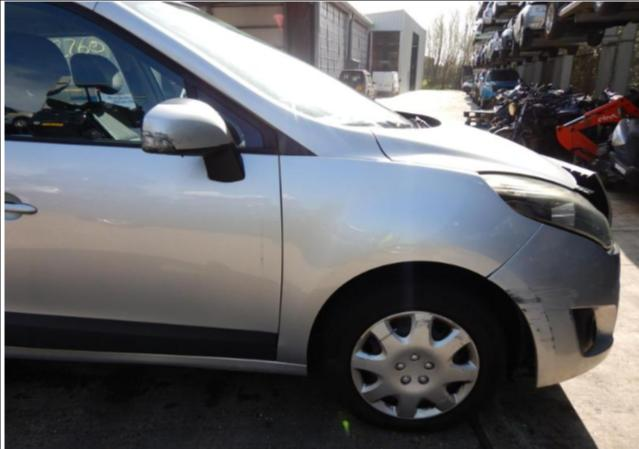Broken part: (542, 154, 610, 223)
Scratch: (505, 286, 578, 304), (141, 127, 189, 152), (519, 306, 550, 325), (412, 318, 431, 329), (436, 395, 449, 407), (260, 223, 263, 265), (357, 355, 370, 364), (453, 333, 461, 341), (548, 326, 553, 334), (550, 336, 555, 341), (536, 328, 541, 332), (539, 338, 544, 342), (461, 368, 466, 372), (552, 344, 555, 349), (459, 341, 463, 344)
